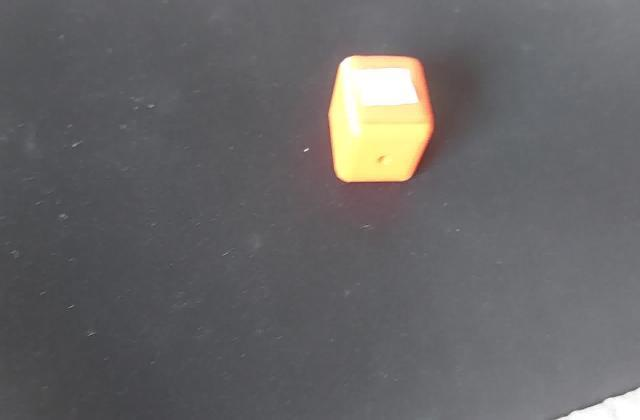cube: (322, 45, 441, 185)
white: (346, 63, 419, 114)
